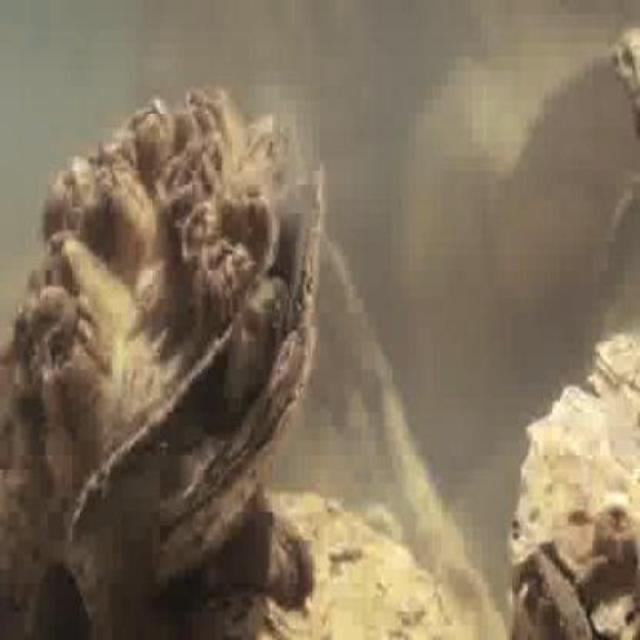Oyster-Closed: (193, 494, 466, 640), (508, 384, 640, 629), (162, 507, 316, 608), (593, 329, 640, 390), (613, 26, 640, 123)
Oyster-Open: (3, 85, 321, 583), (508, 556, 596, 640)
